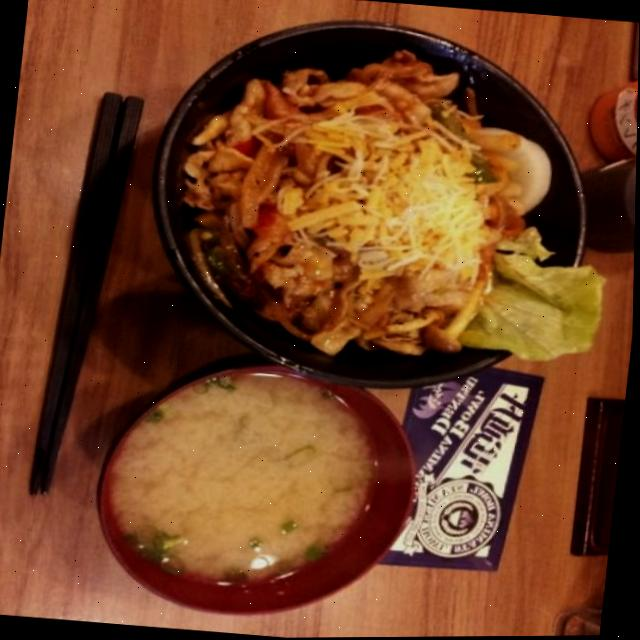汤锅炖物: (82, 346, 434, 628)
